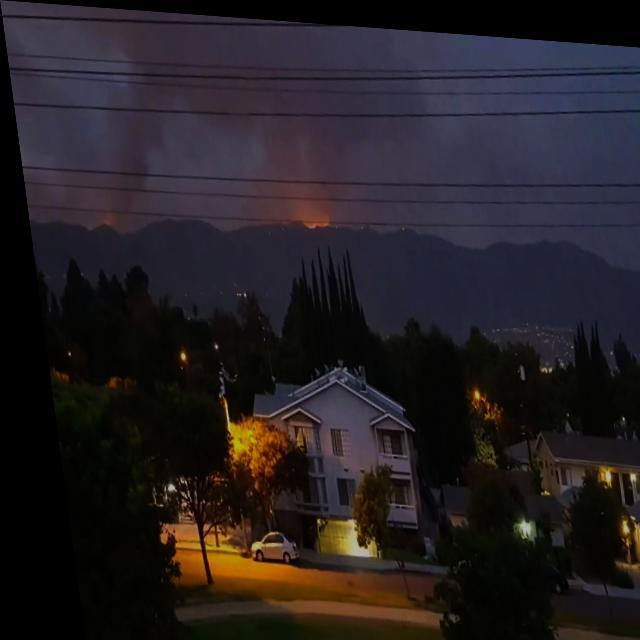Fire: (302, 214, 325, 226)
